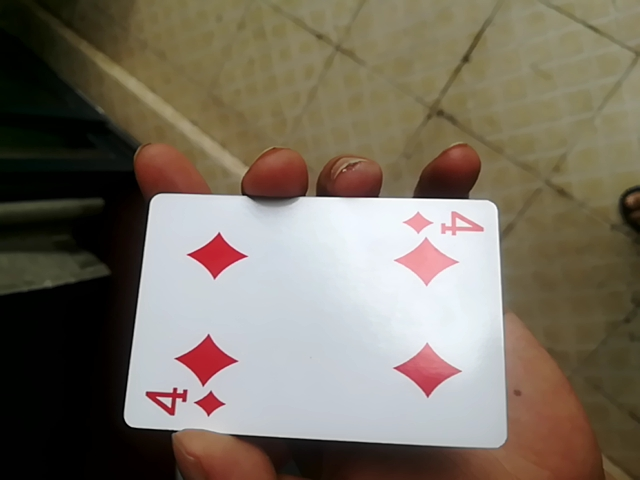fk 4: (125, 192, 508, 455)
